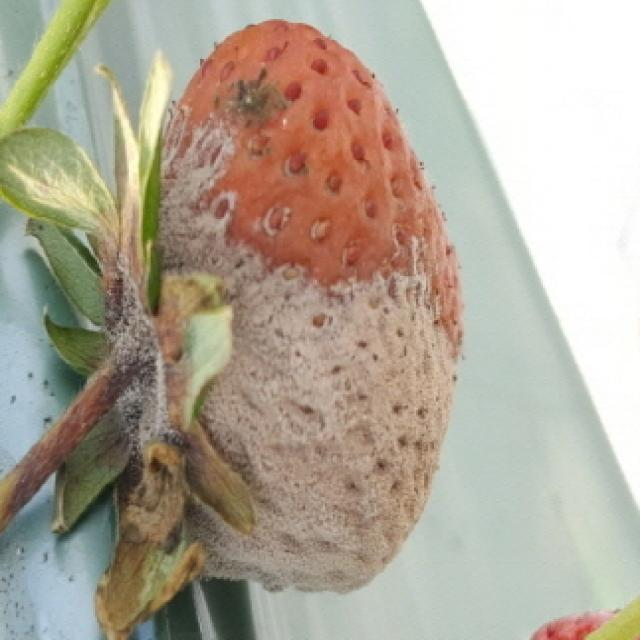Gray Mold: (0, 75, 460, 596)
